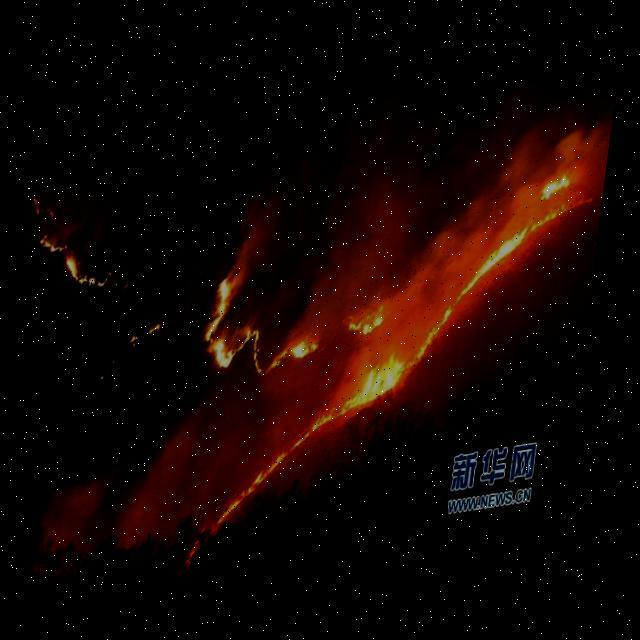Fire: (195, 188, 603, 585), (17, 171, 153, 310)
